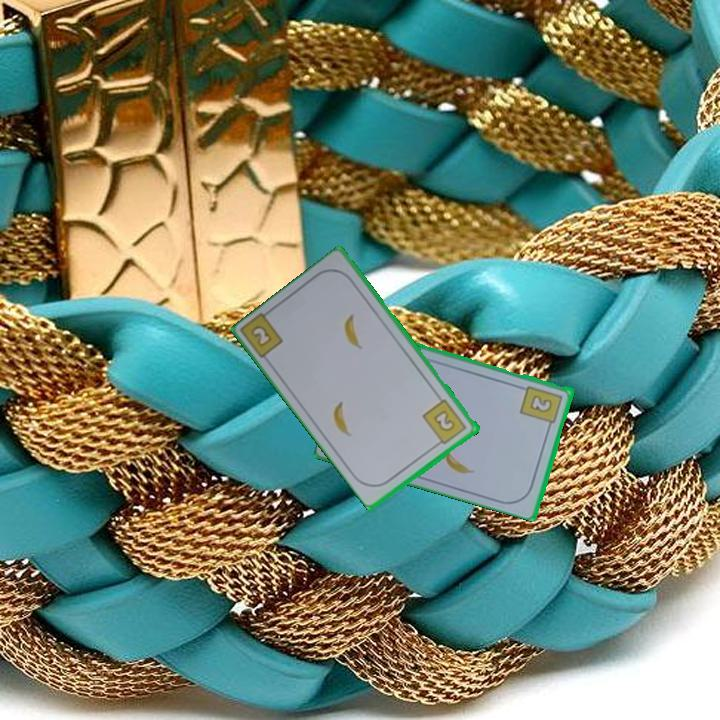2b: (419, 396, 470, 449), (517, 382, 566, 432), (249, 324, 273, 348)
